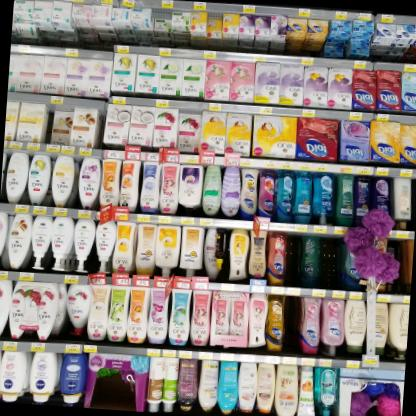empty_space: (318, 228, 348, 290), (282, 286, 301, 355), (286, 222, 306, 286)
